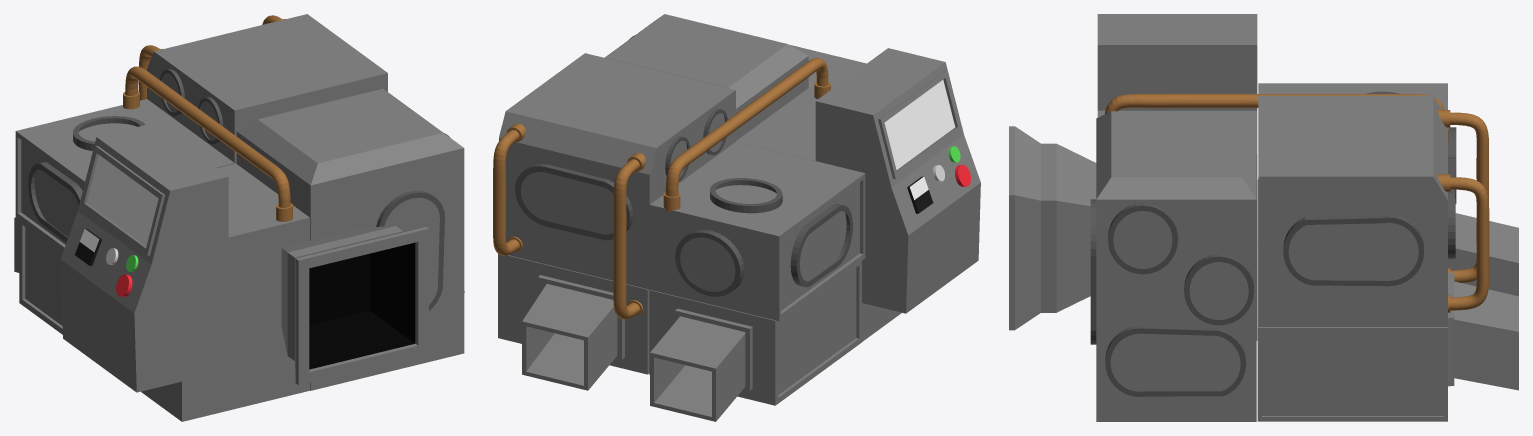
File: Maquina Clasificadora de Metales.fbx
3 renders of one model, left to right at view 1: azimuth 30°, elevation 25°; view 2: azimuth 150°, elevation 25°; view 3: azimuth 270°, elevation 25°, orthographic. The views are drawn at different scales.
Visible parts, largest first — view 1: Cube.005; view 2: Cube.005; view 3: Cube.005.
Part boxes in pixels (bbox=[...]): Cube.005: bbox=[14, 14, 464, 421]; Cube.005: bbox=[493, 14, 980, 421]; Cube.005: bbox=[1009, 14, 1518, 421].
Size of the model in its own units: 300 by 200 by 365.
